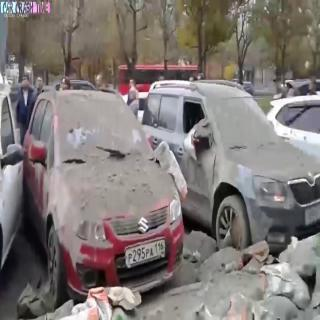Vehicle-Crash_Detected: (50, 105, 229, 222)
